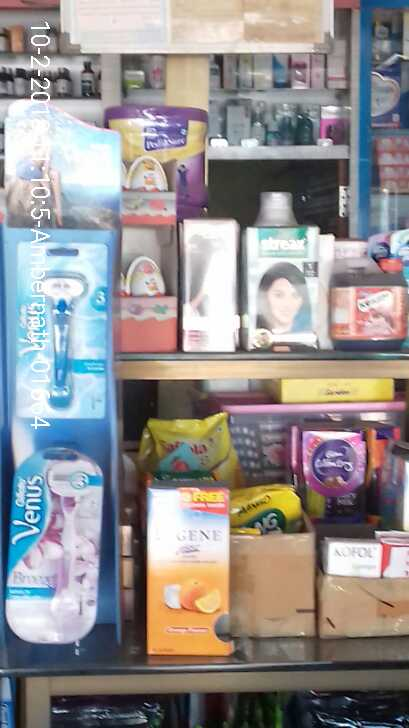venus: (6, 444, 102, 629), (14, 244, 107, 418)
